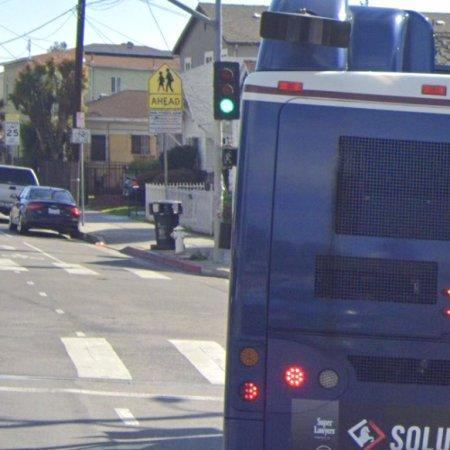crosswalks: (1, 338, 226, 387)
